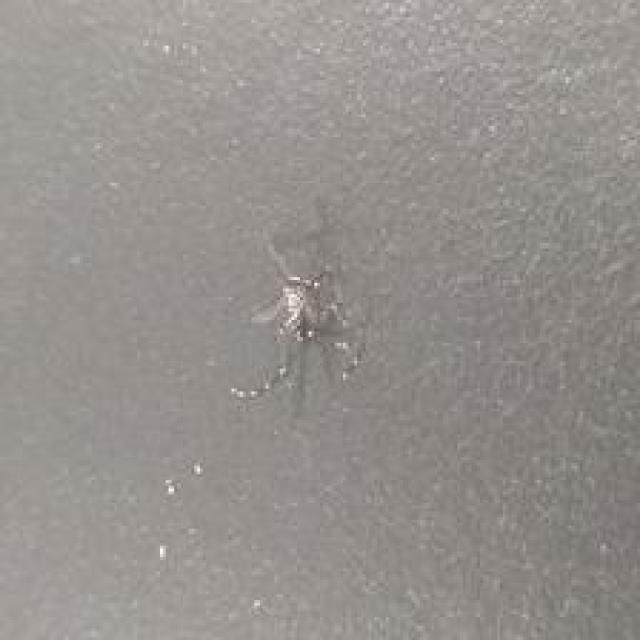Aedes albopictus: (228, 234, 366, 412)
